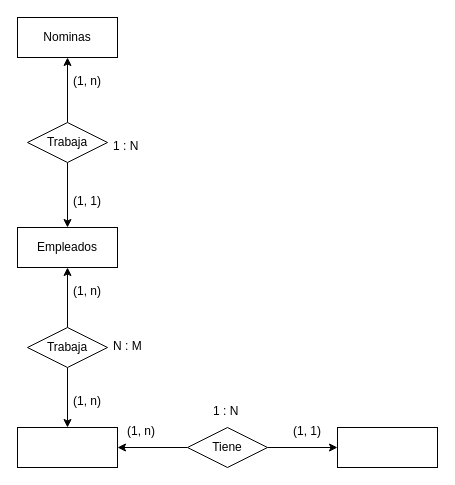
Image size: 455x485. Some labels were removed from this diagram. The box of each missing label's shape, as (x1, y1, x2, y2) in pixels:
Departamentos: (16, 426, 118, 468)
Sedes: (336, 426, 438, 468)
